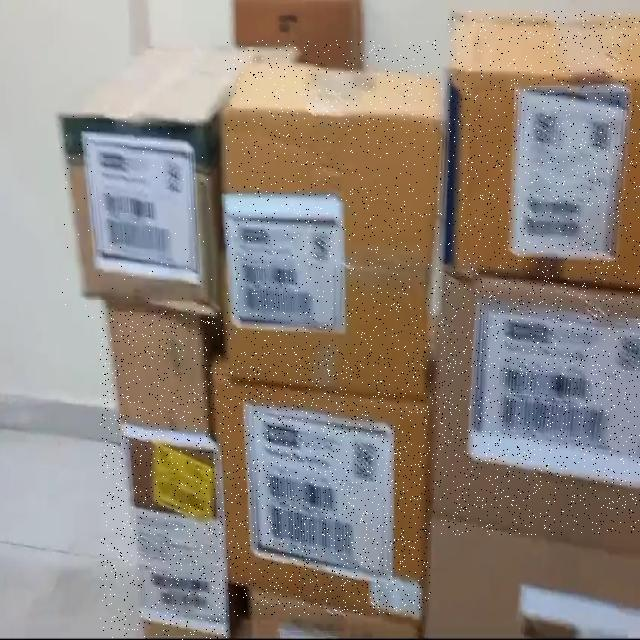BoxFace: (225, 40, 442, 401), (203, 348, 431, 616), (432, 268, 640, 536), (448, 11, 640, 280), (100, 309, 228, 640), (61, 109, 214, 318)
